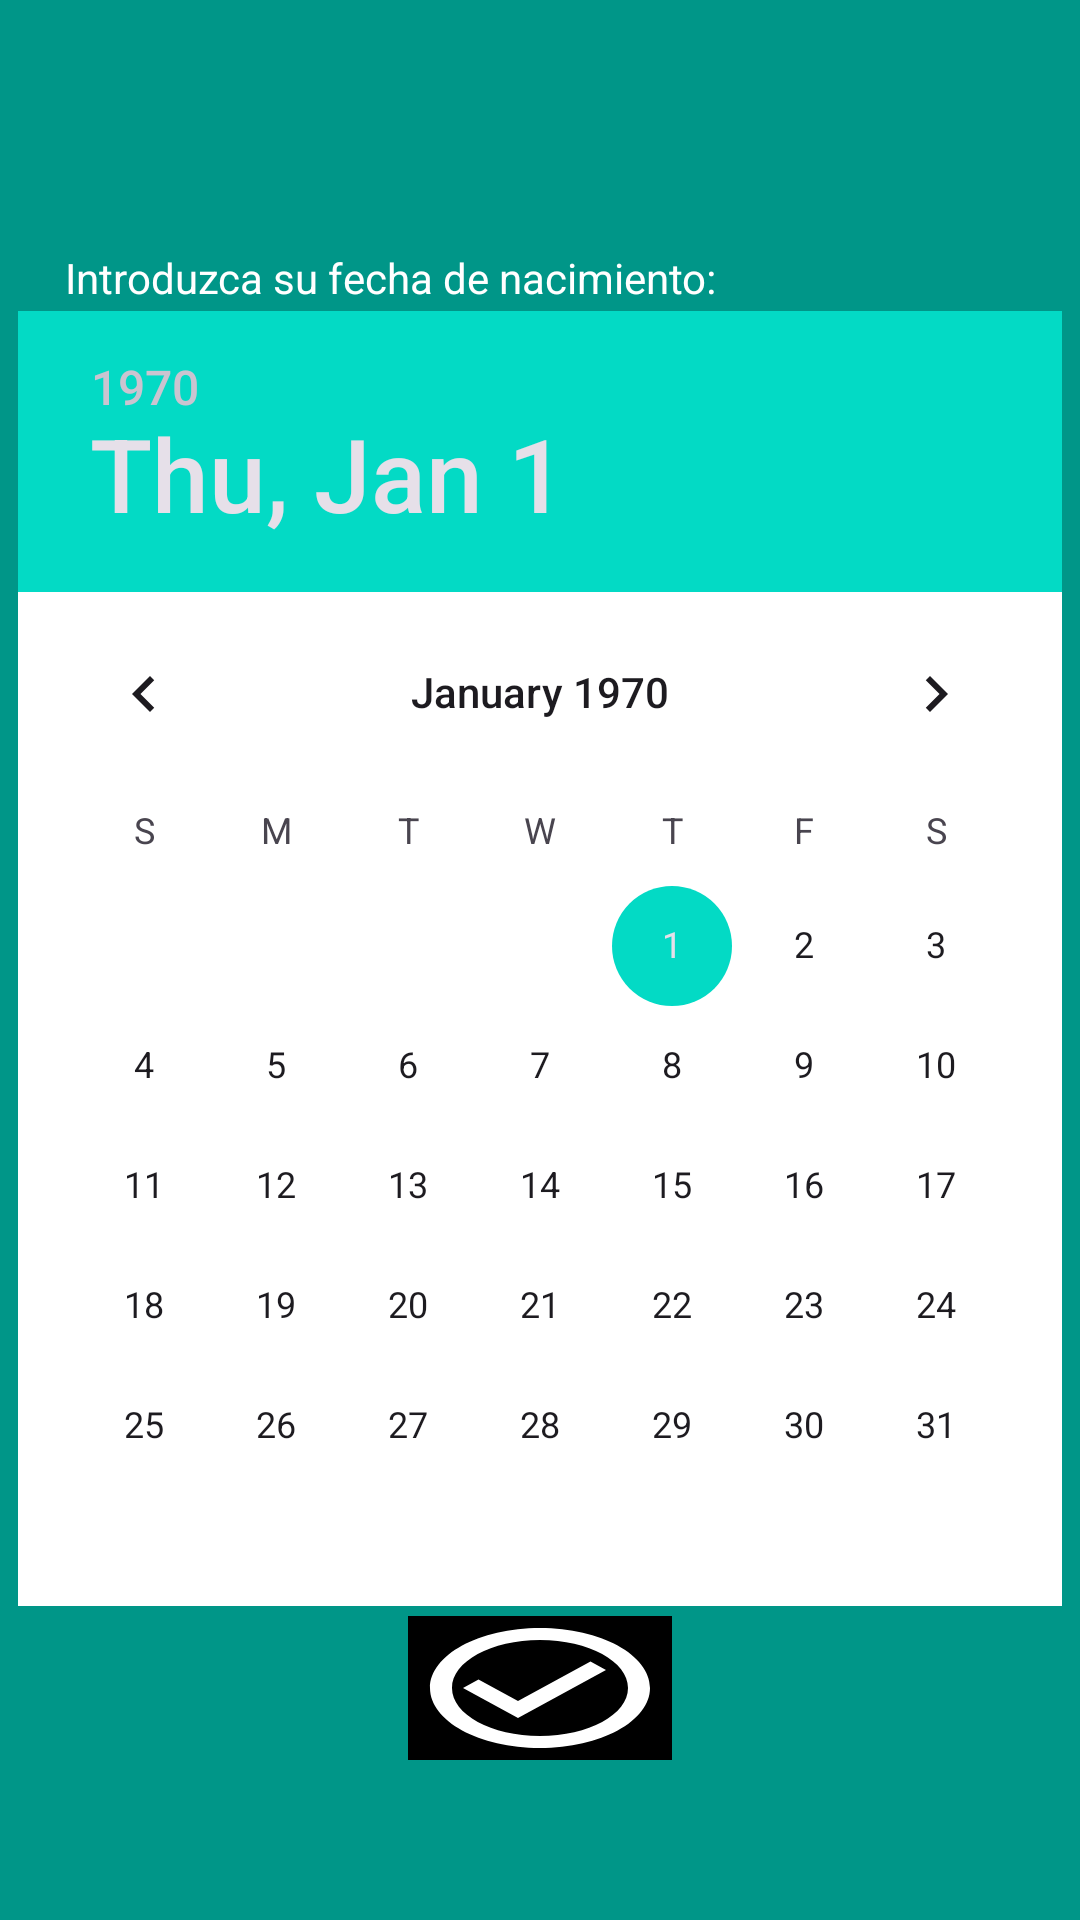

Icons on this 1080*1920 Android screen, each with the point to tap as point (x, y):
check circle: point (540, 1688)
